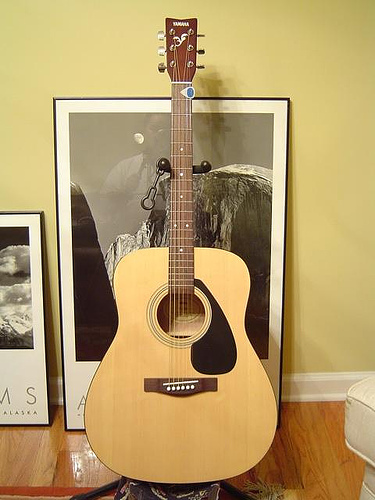guitar: (82, 15, 279, 485)
